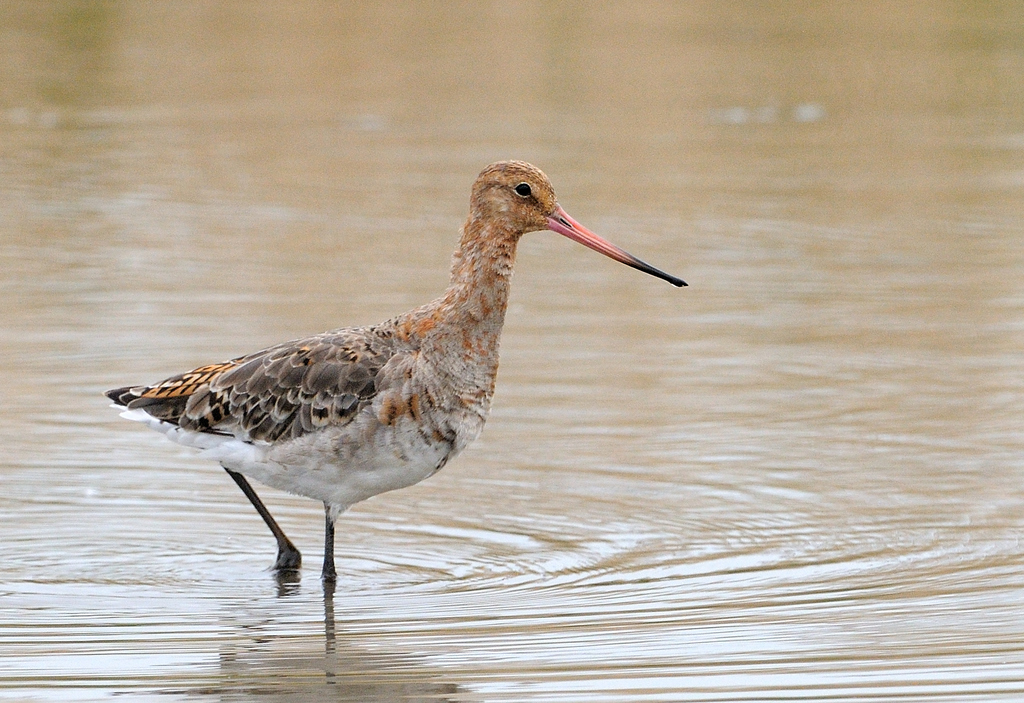Bird: (101, 159, 689, 582)
